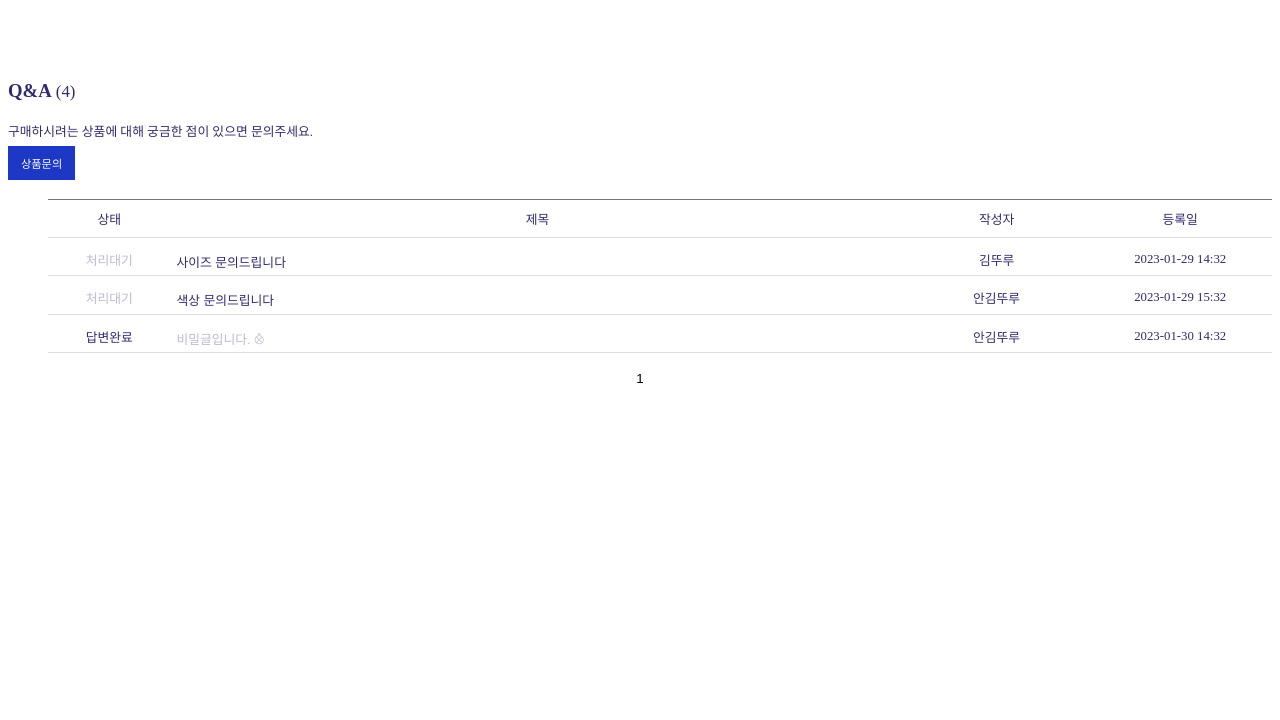
Test: QnASection › 상품문의 클릭 › 내가 작성한 상품문의가 아닐 경우 › 문의내용은 보이나 수정 및 삭제버튼은 보이지 않는다
Click the button "색상 문의드립니다": (225, 301) [170, 285, 905, 305]
(page scrolled)
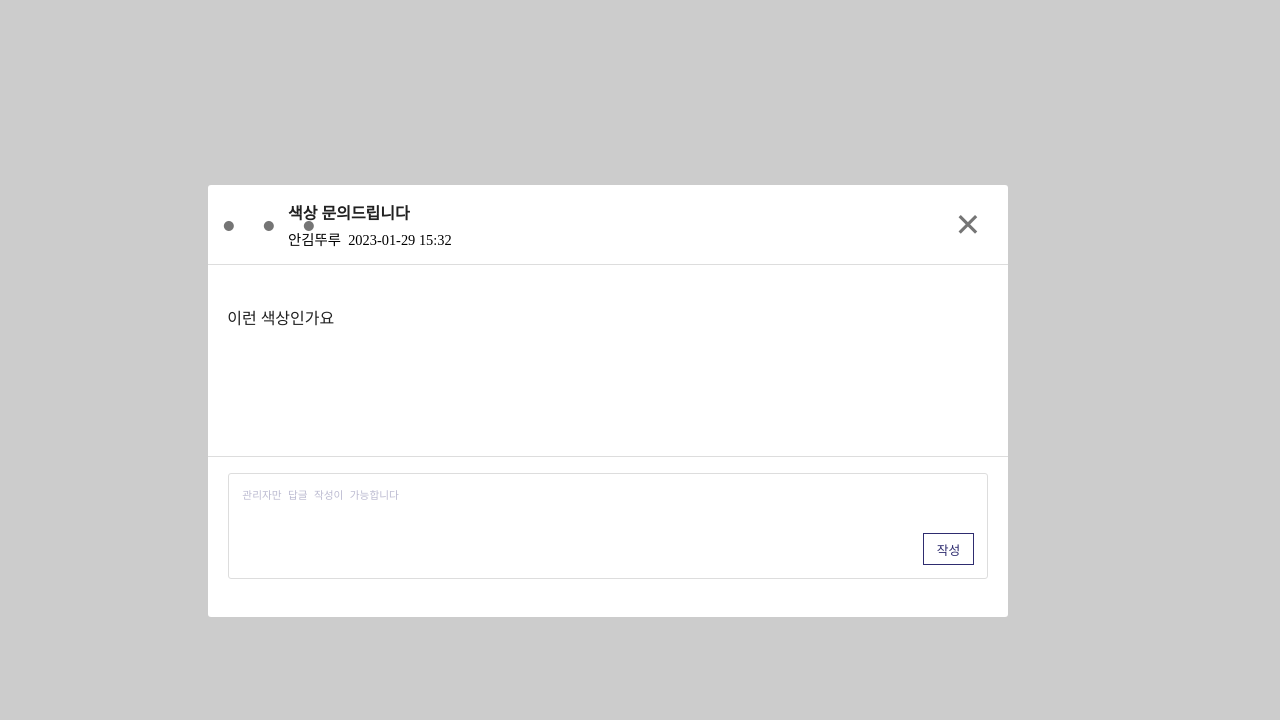
Now the text "이런 색상인가요" is shown, box [227, 310, 334, 327]
